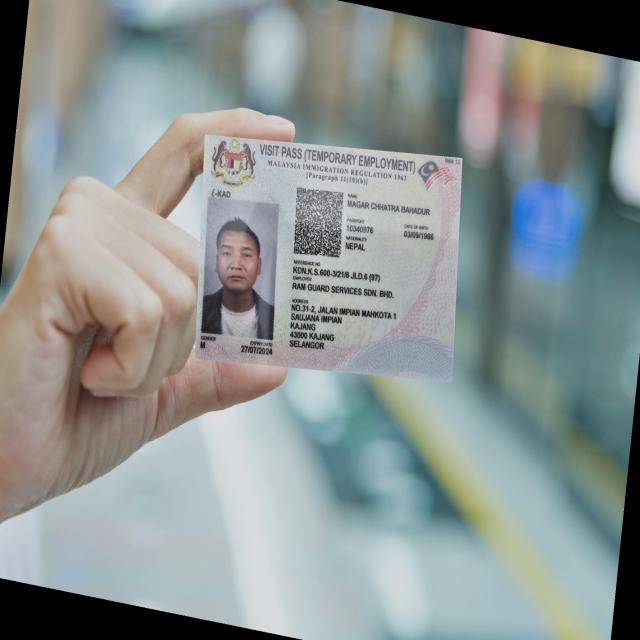ikad-temp: (194, 133, 463, 382)
